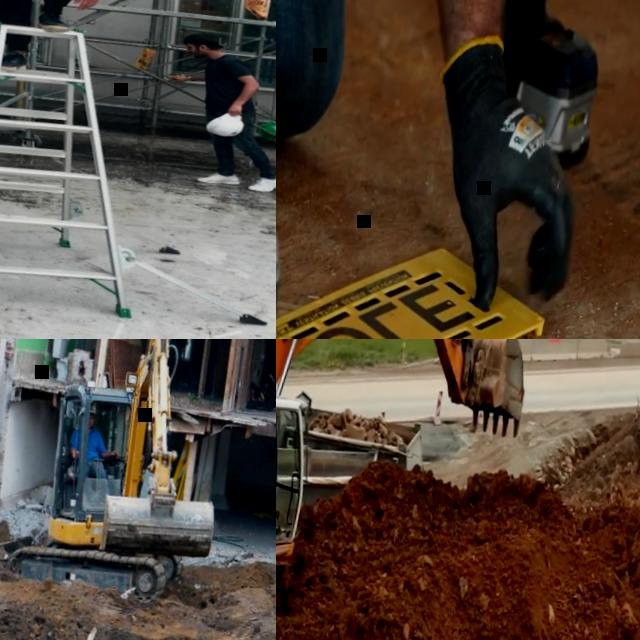helmet: (202, 108, 246, 142)
machinery: (276, 339, 553, 640), (0, 339, 238, 610)
no_helmet: (181, 30, 222, 50), (86, 402, 98, 414)
no_mask: (188, 48, 208, 58), (88, 422, 92, 428)
no_vest: (202, 54, 256, 119), (73, 426, 102, 459)
person: (276, 0, 617, 339), (155, 28, 276, 195), (0, 0, 127, 81), (64, 402, 126, 500), (166, 339, 191, 374)
